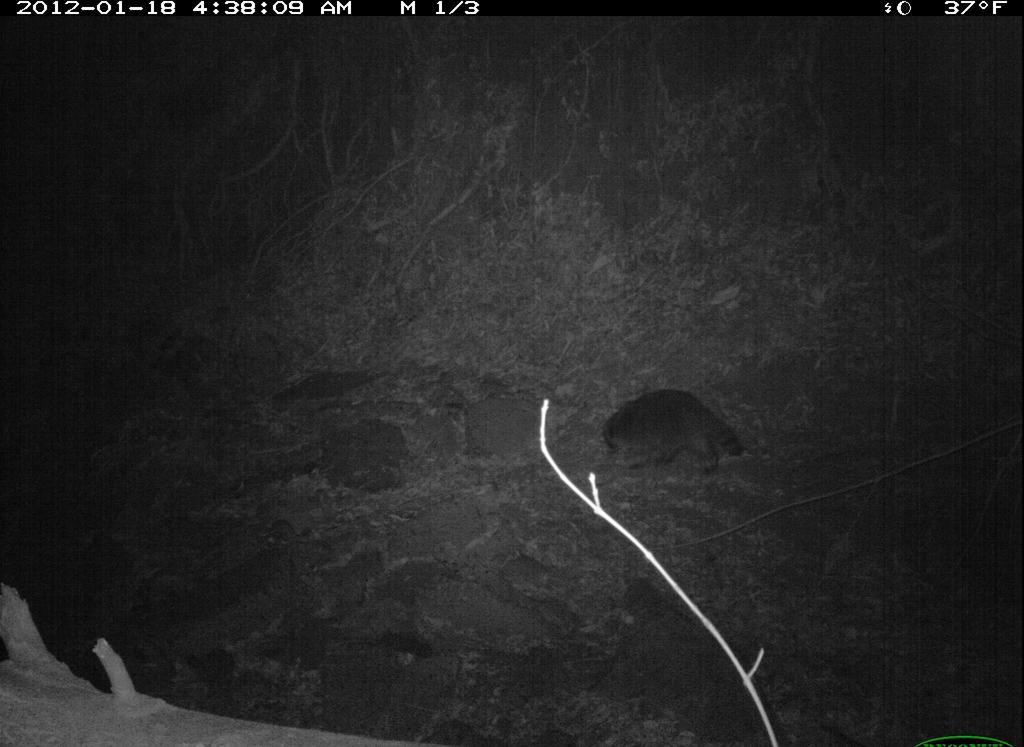raccoon: (585, 378, 747, 515)
